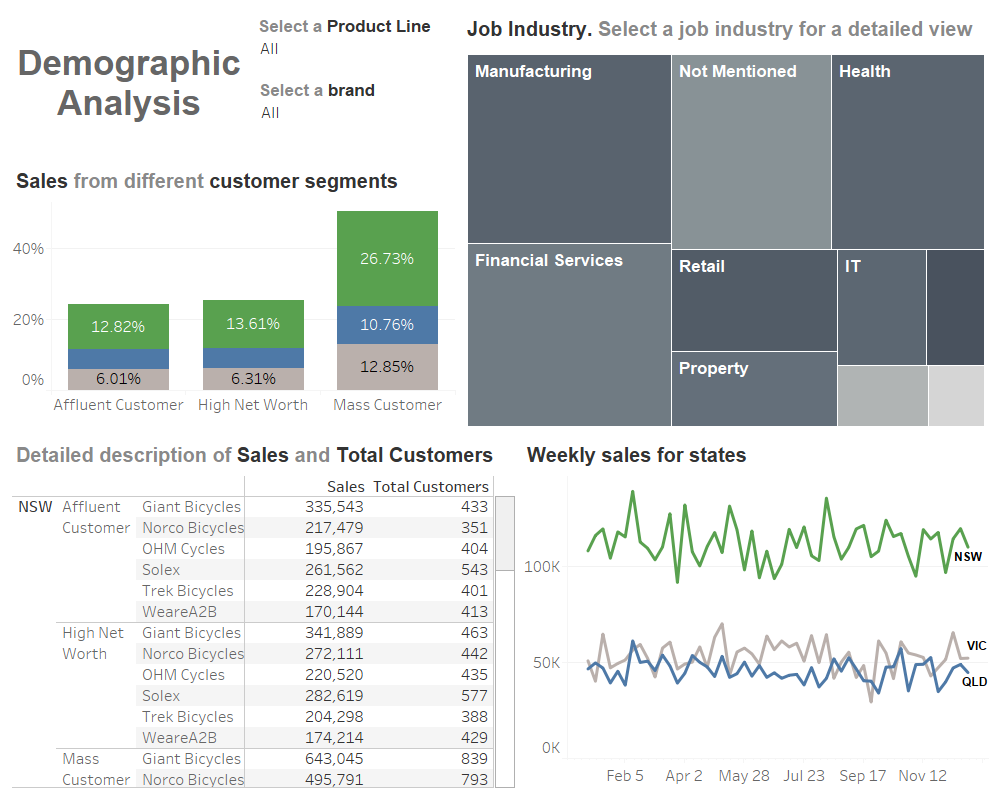

This screenshot's page, from the dashboard's own definition file:
{"tool":"tableau","page":{"name":"Demographic Analysis","canvas":[1000,800],"ordinal":0},"visuals":[{"type":"worksheet","box":[0,0,1000,800]},{"type":"worksheet","param":"horz","box":[8,8,984,784]},{"type":"worksheet","param":"horz","box":[8,8,984,784]},{"type":"worksheet","param":"horz","box":[8,8,984,784]},{"type":"worksheet","param":"horz","box":[8,8,984,784]},{"type":"worksheet","param":"horz","box":[8,8,984,784]},{"type":"worksheet","box":[8,8,984,784]},{"type":"worksheet","box":[8,8,242,152]},{"type":"worksheet","box":[250,8,209,152]},{"type":"worksheet","title":"JOb industry","mark":"Automatic","box":[459,8,533,426]},{"type":"worksheet","title":"Sales VS state(weekly)","mark":"Line","rows":["standard_cost"],"cols":["transaction_date"],"param":"[federated.1qpczez0l6baiq1apgai91wxeh79].[none:product_line:nk]","box":[258,16,188,67]},{"type":"worksheet","title":"Sales VS state(weekly)","mark":"Line","rows":["standard_cost"],"cols":["transaction_date"],"param":"[federated.1qpczez0l6baiq1apgai91wxeh79].[none:brand:nk]","box":[259,80,160,53]},{"type":"worksheet","title":"State vs sales","mark":"Automatic","rows":["standard_cost"],"cols":["wealth_segment"],"box":[8,160,451,274]},{"type":"worksheet","title":"description","mark":"Automatic","rows":["state","wealth_segment","brand"],"box":[8,434,511,358]},{"type":"worksheet","title":"Sales VS state(weekly)","mark":"Line","rows":["standard_cost"],"cols":["transaction_date"],"box":[519,434,473,358]}]}

Visuals, with their boxes in screenshot pixels (x1, y1, x2, y2), scaled from the page's 1000x800 canvas onto the 1000x800 screenshot:
worksheet: 0, 0, 999, 799
worksheet: 8, 8, 992, 792
worksheet: 8, 8, 992, 792
worksheet: 8, 8, 992, 792
worksheet: 8, 8, 992, 792
worksheet: 8, 8, 992, 792
worksheet: 8, 8, 992, 792
worksheet: 8, 8, 250, 160
worksheet: 250, 8, 459, 160
"JOb industry" worksheet: 459, 8, 992, 434
"Sales VS state(weekly)" worksheet (Line marks): 258, 16, 446, 83
"Sales VS state(weekly)" worksheet (Line marks): 259, 80, 419, 133
"State vs sales" worksheet: 8, 160, 459, 434
"description" worksheet: 8, 434, 519, 792
"Sales VS state(weekly)" worksheet (Line marks): 519, 434, 992, 792
